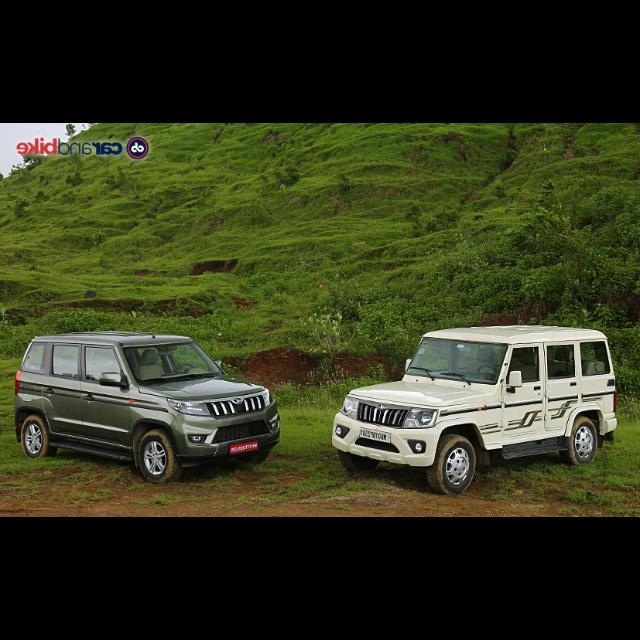vehicles: (327, 320, 617, 500), (17, 328, 286, 487)
